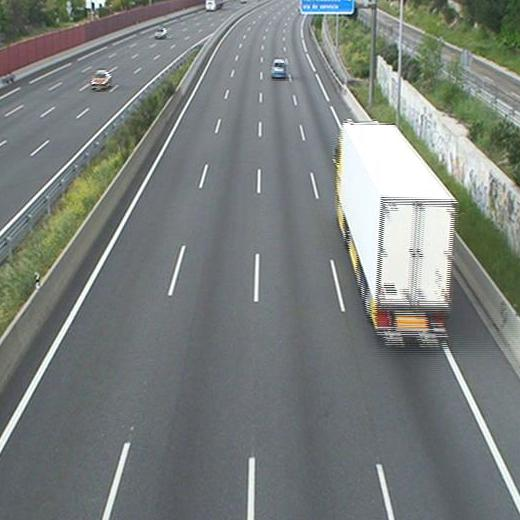car: (271, 58, 286, 78)
truck: (336, 120, 459, 353)
